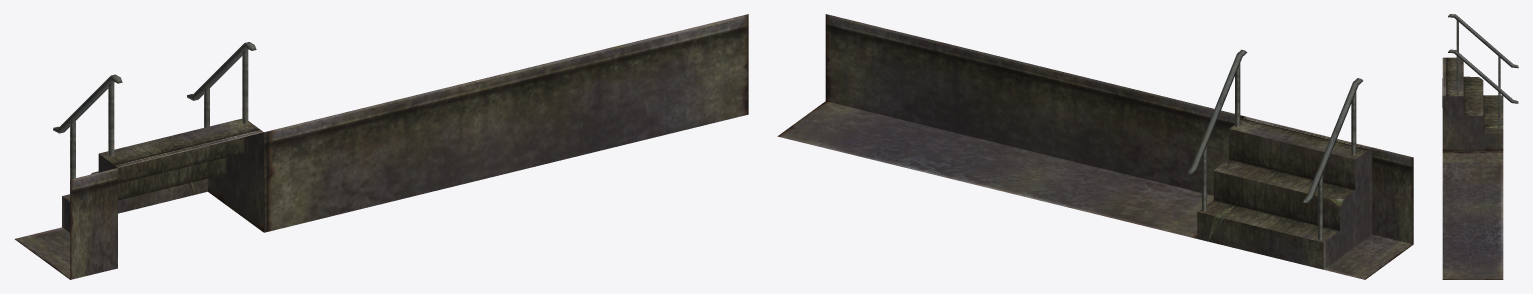
File: Trottoir_12.fbx
The picture shows the model from 3 angles, left to right: view 1: azimuth 30°, elevation 25°; view 2: azimuth 150°, elevation 25°; view 3: azimuth 270°, elevation 25°; orthographic projection. The views are drawn at different scales.
Visible parts, largest first — view 1: Trottoir_12; view 2: Trottoir_12; view 3: Trottoir_12.
Boxes of the visible parts, box(x1,y1,x2,y2) form: Trottoir_12: box(14, 14, 748, 279); Trottoir_12: box(777, 14, 1413, 279); Trottoir_12: box(1442, 14, 1518, 279).
Bounding box in the file's own units: 700 × 181 × 125.
